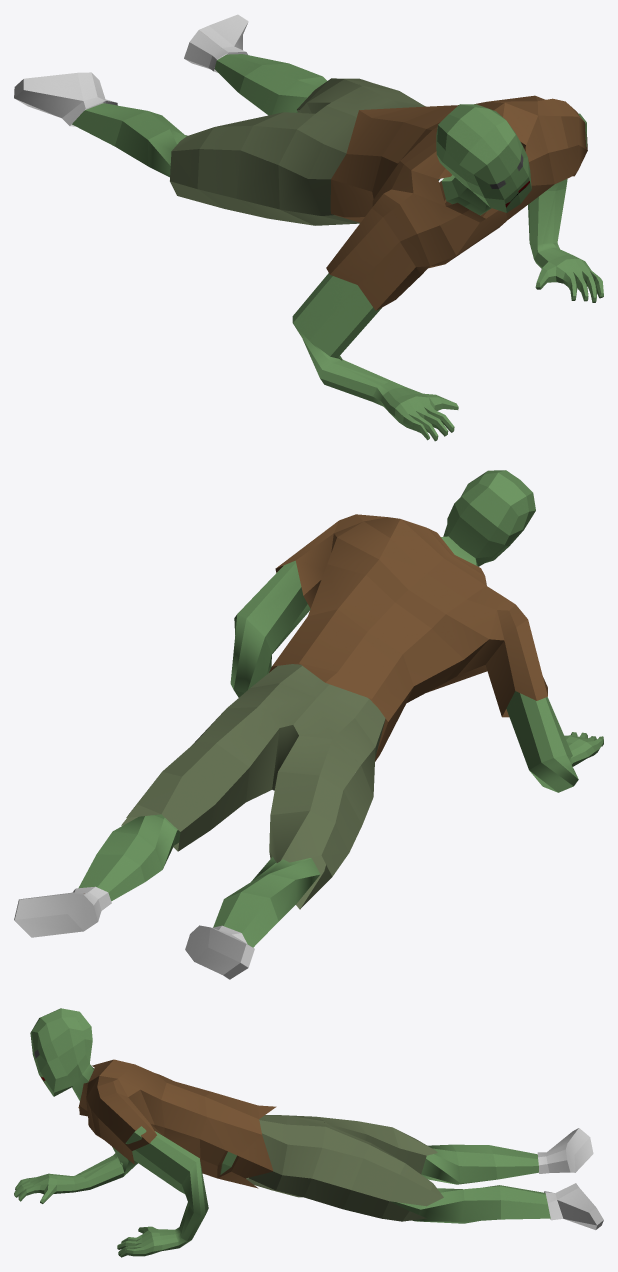
File: ZombieCrawl(29).obj
3 renders of one model, top to bottom at view 1: azimuth 30°, elevation 25°; view 2: azimuth 150°, elevation 25°; view 3: azimuth 270°, elevation 25°, orthographic. The views are drawn at different scales.
Visible parts, largest first — view 1: Object001; view 2: Object001; view 3: Object001.
Part boxes in pixels (left/top/right/bottom): Object001: left=14, top=14, right=603, bottom=441; Object001: left=14, top=470, right=603, bottom=979; Object001: left=14, top=1008, right=603, bottom=1257.
Bounding box in the file's own units: 26.79 × 23.86 × 60.03.
